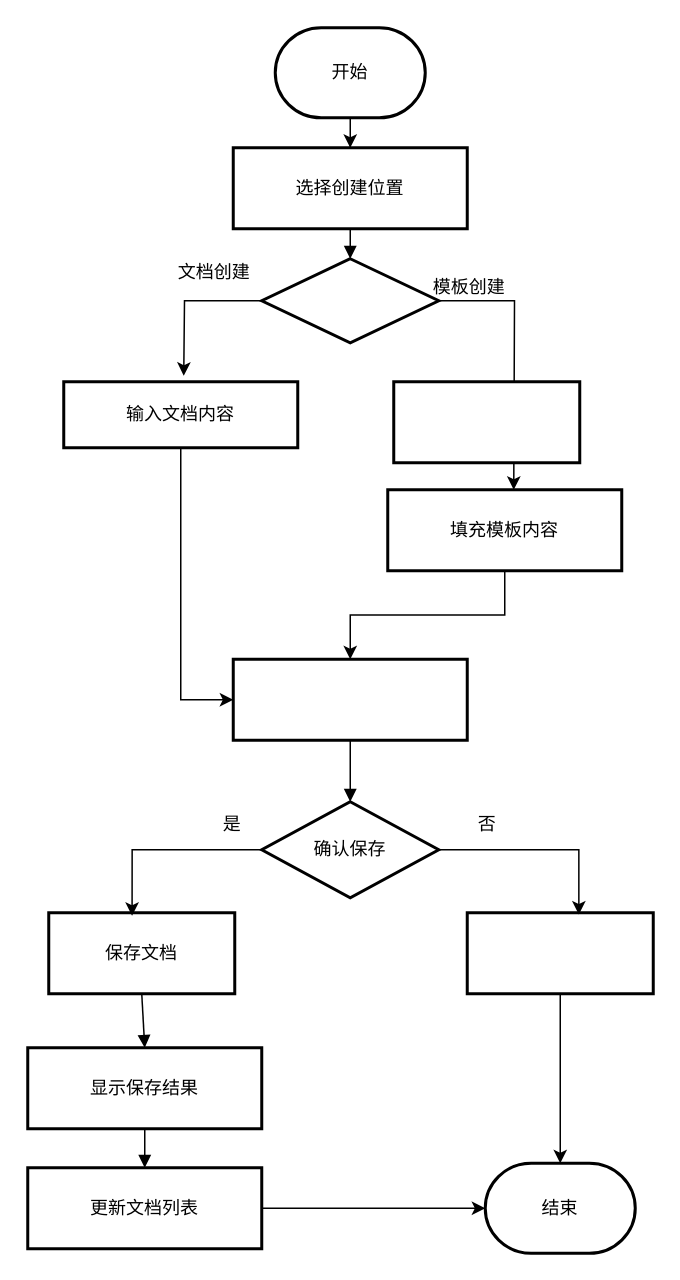
The diagram is 680 pixels wide and 1280 high, and some of its shapes have lost their labels. Each missing label, with the centre of its shape:
创建方式: the point at 350,300
取消操作: the point at 559,952
编辑文档内容: the point at 349,699
选择模板: the point at 486,422
